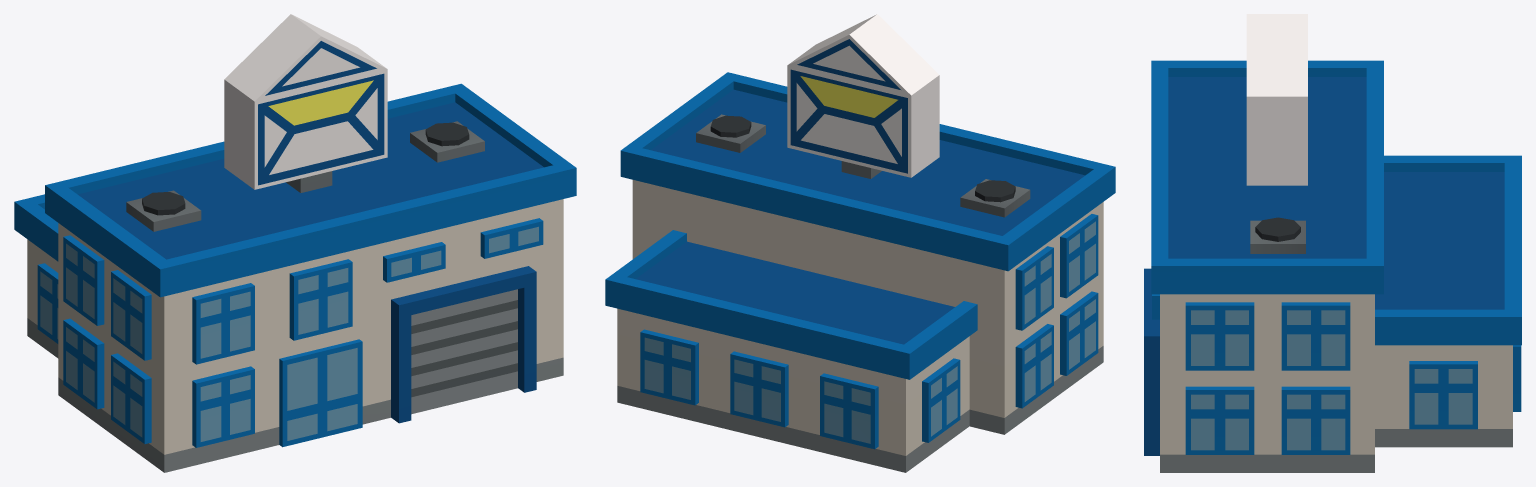
File: post office.fbx
3 views of the same model, side by side, from view 1: azimuth 30°, elevation 25°; view 2: azimuth 150°, elevation 25°; view 3: azimuth 270°, elevation 25° (orthographic). The views are drawn at different scales.
Visible parts, largest first — view 1: post office; view 2: post office; view 3: post office.
Part boxes in pixels (box(x1,y1,x2,y2)): post office: box(14, 14, 576, 472); post office: box(605, 14, 1115, 472); post office: box(1144, 14, 1521, 472).
Size of the model in its own units: 1054 by 863 by 819.
Materials: 1 (1 with a texture image).
